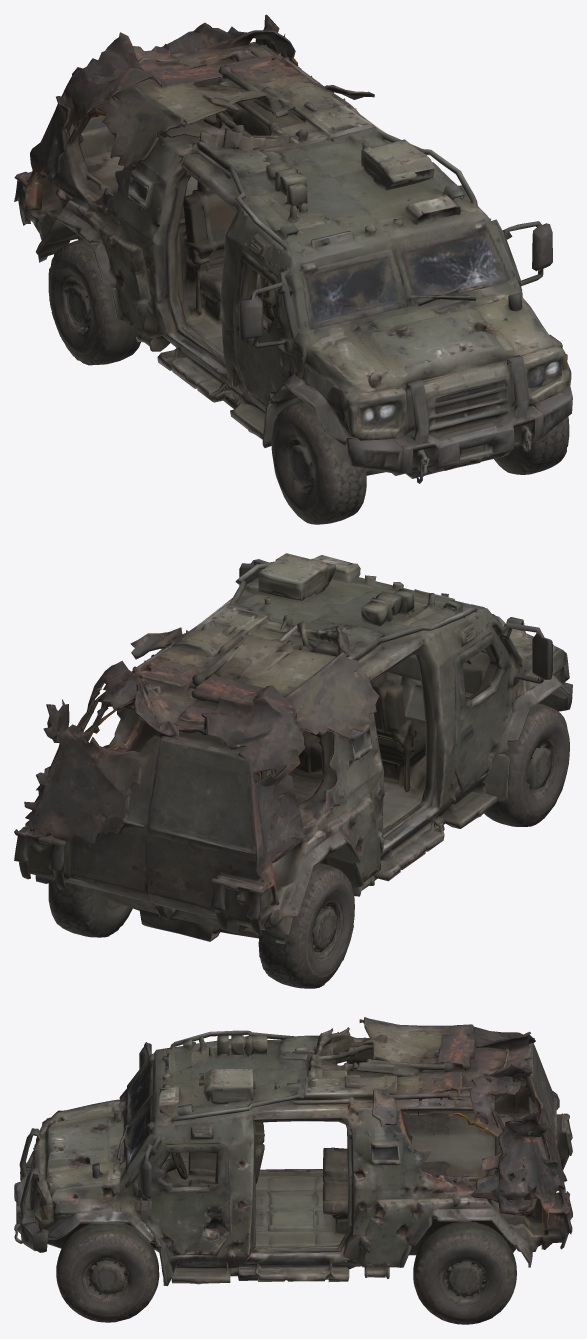
The model's file is burned-armored-van-v1.glb.
3 views of the same model, one above another, from view 1: azimuth 30°, elevation 25°; view 2: azimuth 150°, elevation 25°; view 3: azimuth 270°, elevation 25° (orthographic). The views are drawn at different scales.
Visible parts, largest first — view 1: tripo_node_3d32935d-a498-434a-b96e-7aa0d7605705; view 2: tripo_node_3d32935d-a498-434a-b96e-7aa0d7605705; view 3: tripo_node_3d32935d-a498-434a-b96e-7aa0d7605705.
Boxes of the visible parts, x1=… form: tripo_node_3d32935d-a498-434a-b96e-7aa0d7605705: x1=14, y1=14, x2=572, y2=524; tripo_node_3d32935d-a498-434a-b96e-7aa0d7605705: x1=14, y1=553, x2=572, y2=988; tripo_node_3d32935d-a498-434a-b96e-7aa0d7605705: x1=14, y1=1017, x2=572, y2=1324.
Size of the model in its own units: 0.5132 by 0.4453 by 0.9799.
Materials: 1 (1 with a texture image).
